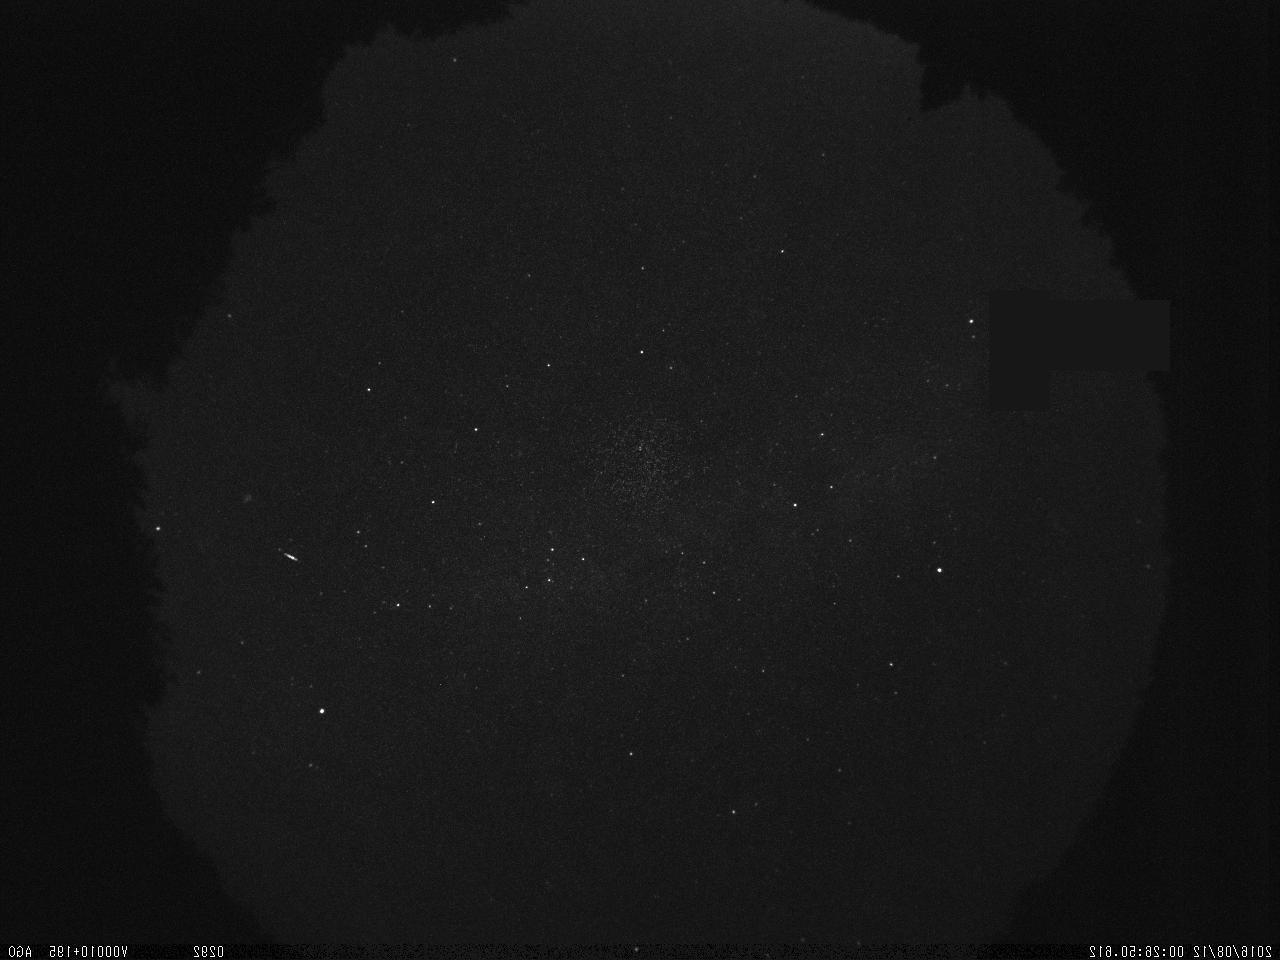meteor: (266, 536, 313, 577)
